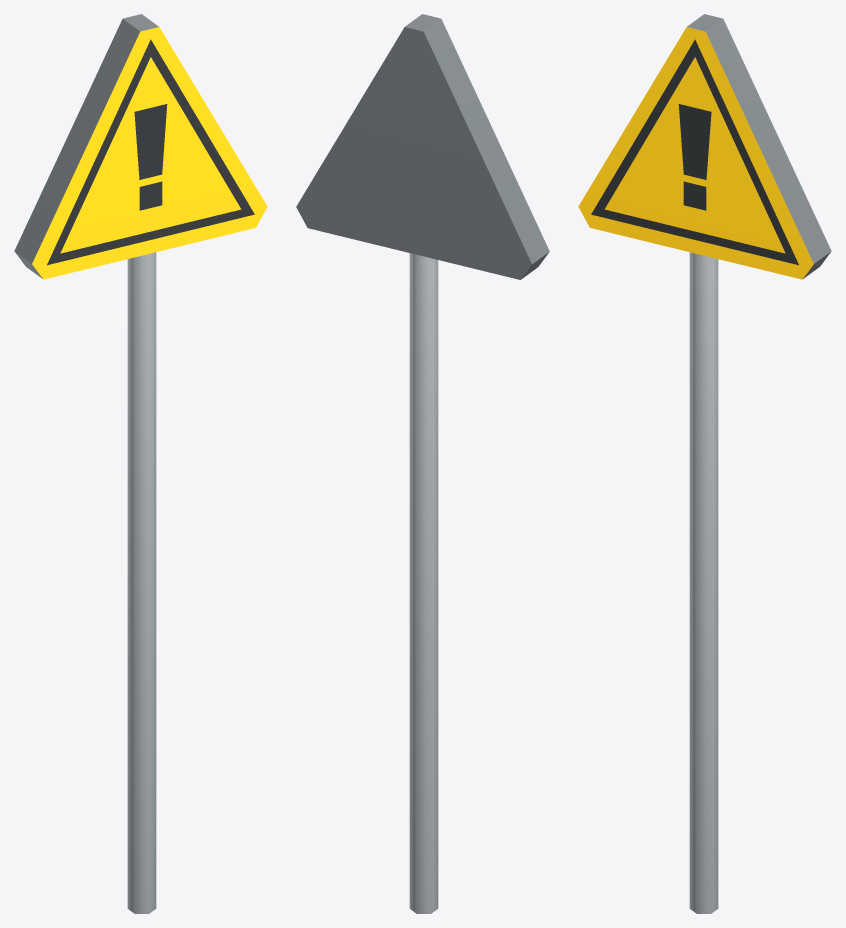
File: Road_Sign_06.glb
3 views of the same model, side by side, from view 1: azimuth 30°, elevation 25°; view 2: azimuth 150°, elevation 25°; view 3: azimuth 330°, elevation 25° (orthographic).
Parts seen in each view (by area): view 1: Road_Sign_06; view 2: Road_Sign_06; view 3: Road_Sign_06.
Boxes of the visible parts, x1=… form: Road_Sign_06: x1=14, y1=14, x2=267, y2=913; Road_Sign_06: x1=296, y1=14, x2=549, y2=913; Road_Sign_06: x1=578, y1=14, x2=831, y2=913.
Size of the model in its own units: 0.769 by 2.76 by 0.1057.
Materials: 1 (1 with a texture image).
